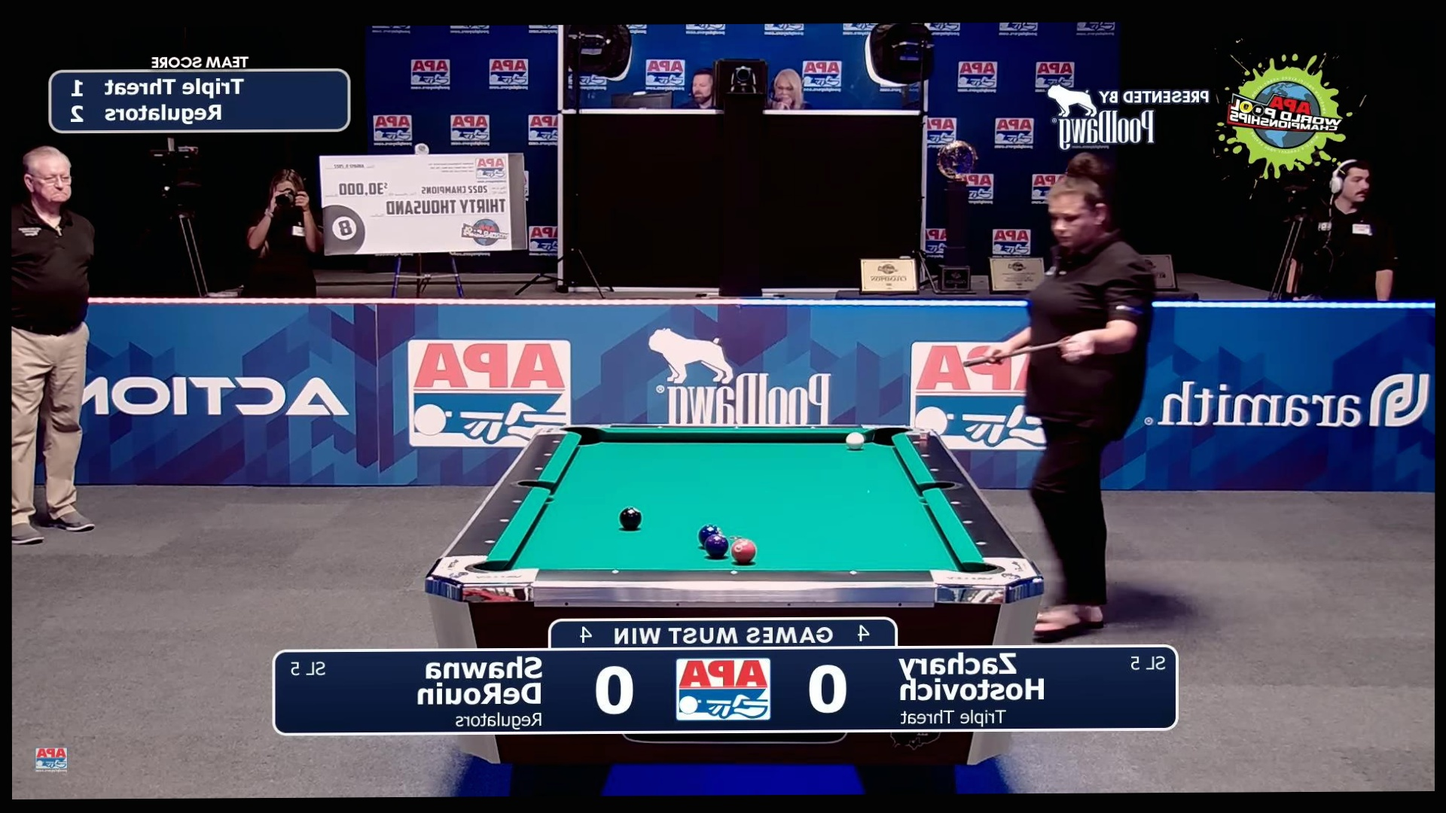Black: (620, 507, 642, 531)
Cue: (845, 432, 864, 450)
Solid: (655, 423, 666, 431), (543, 451, 554, 459), (848, 569, 859, 577), (976, 539, 986, 547), (921, 451, 931, 459), (485, 538, 495, 546), (730, 568, 740, 576), (930, 466, 941, 473), (731, 424, 742, 431), (551, 438, 562, 445), (534, 465, 545, 472), (512, 498, 523, 505), (962, 518, 972, 525), (950, 499, 960, 506), (912, 439, 922, 446), (808, 424, 818, 431), (500, 517, 510, 524), (611, 568, 621, 575)
Striped: (704, 533, 729, 559), (731, 538, 756, 564), (698, 523, 721, 548)
